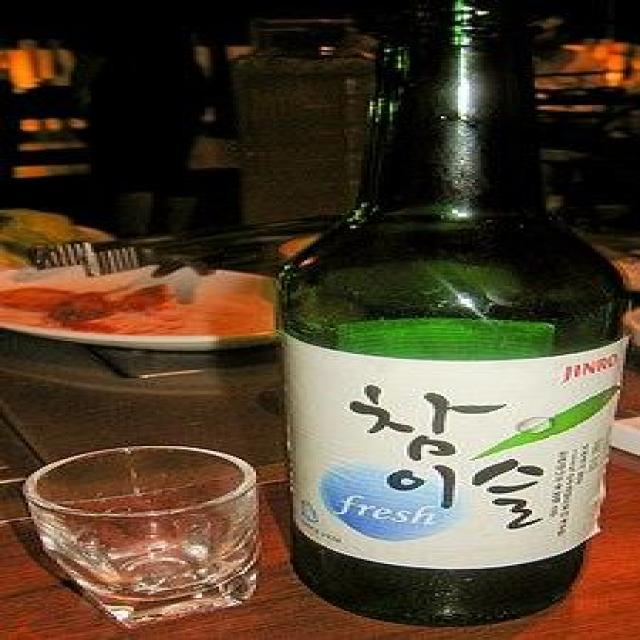soju-bottle: (282, 1, 628, 628)
